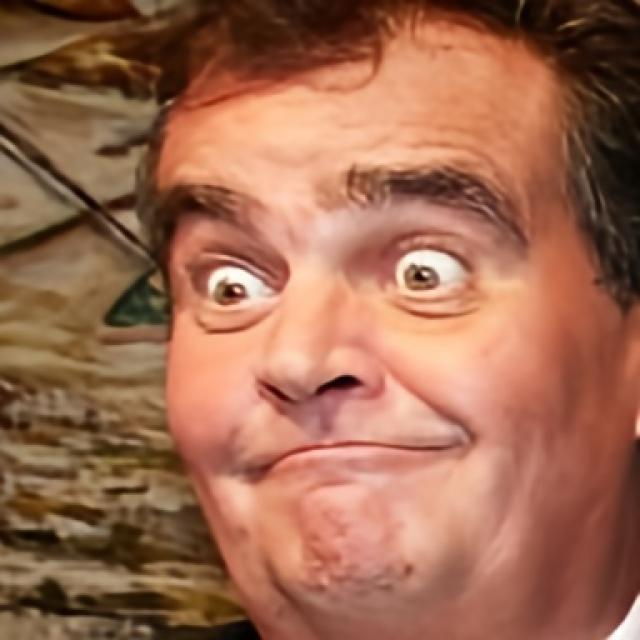surprise: (153, 1, 640, 640)
